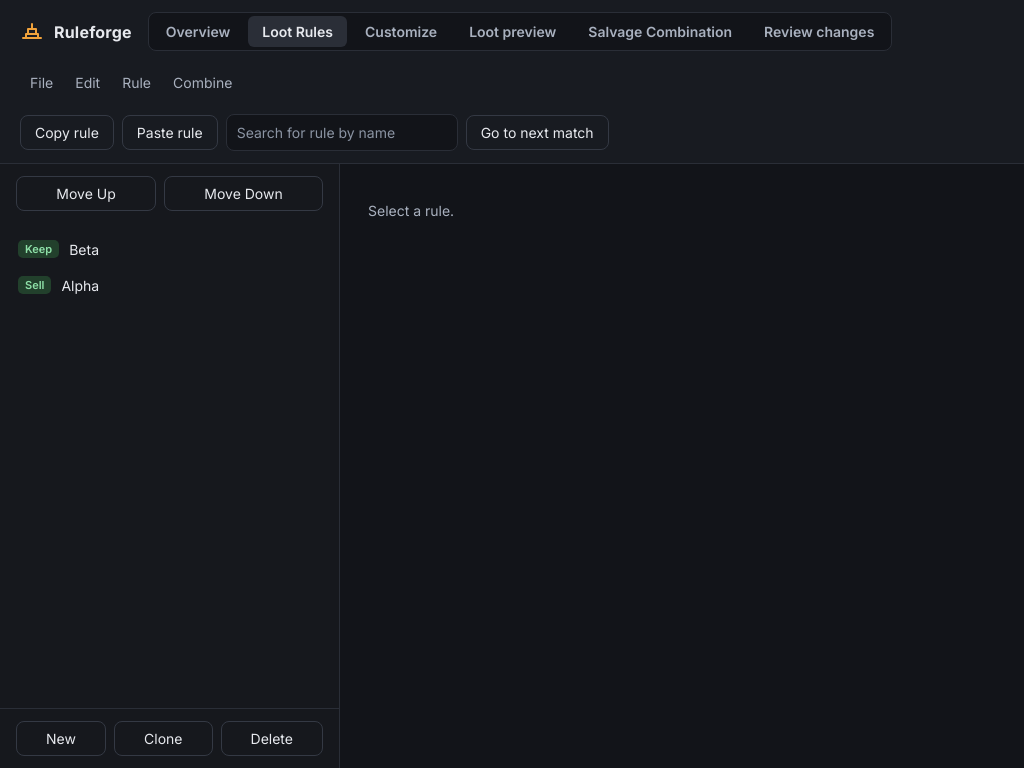
Test: App open and save › a write that fails keeps the profile and shows an error
This screenshot has width=1024, height=768.
Click the button "Keep Beta" at {"x": 39, "y": 249}, box [8, 231, 331, 267]
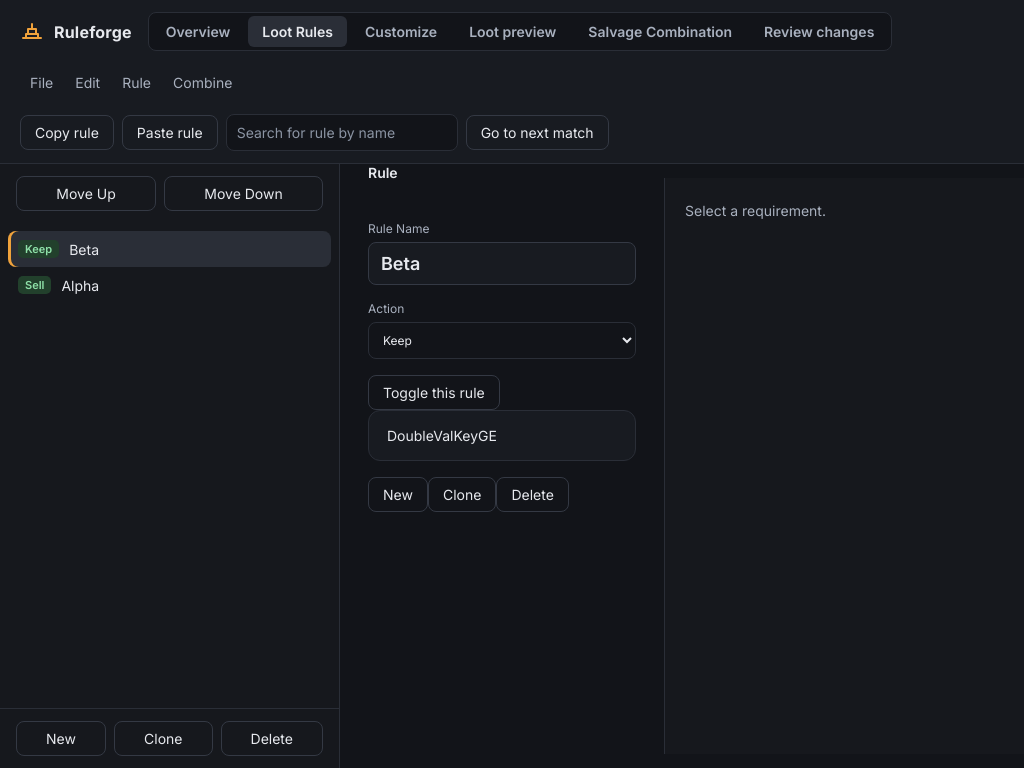
Replace the text in the field labelled "Rule Name" with "Renamed" at {"x": 502, "y": 264}, box [368, 242, 636, 285]
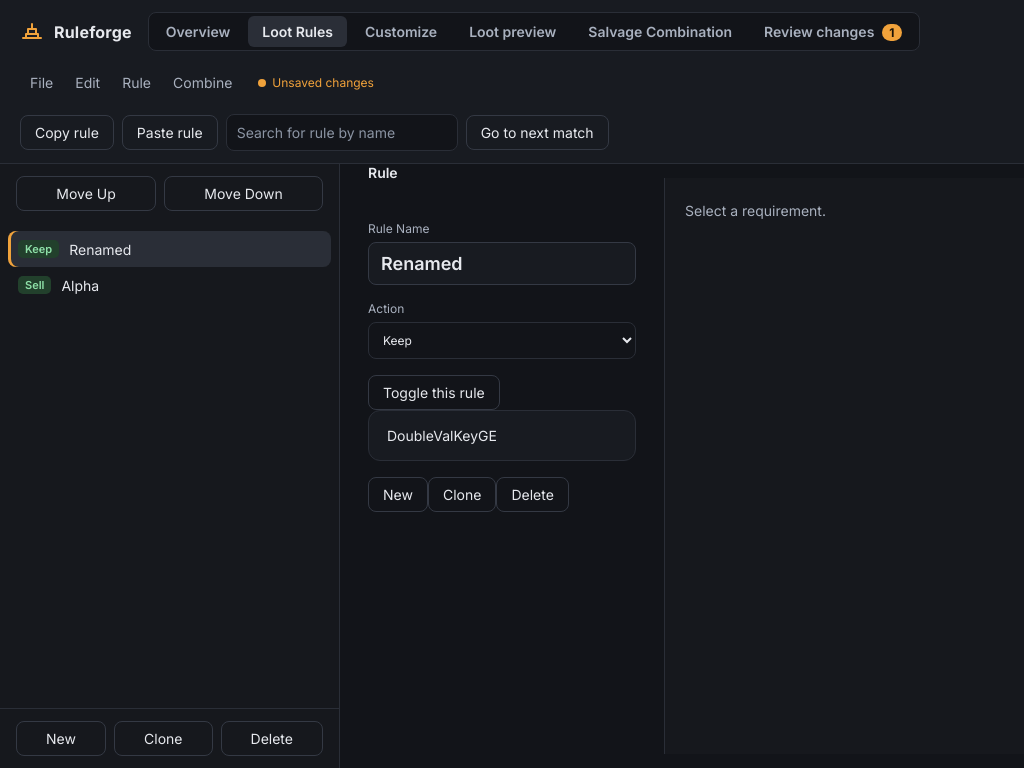
Click the button "File" at {"x": 42, "y": 82}, box [20, 67, 63, 98]
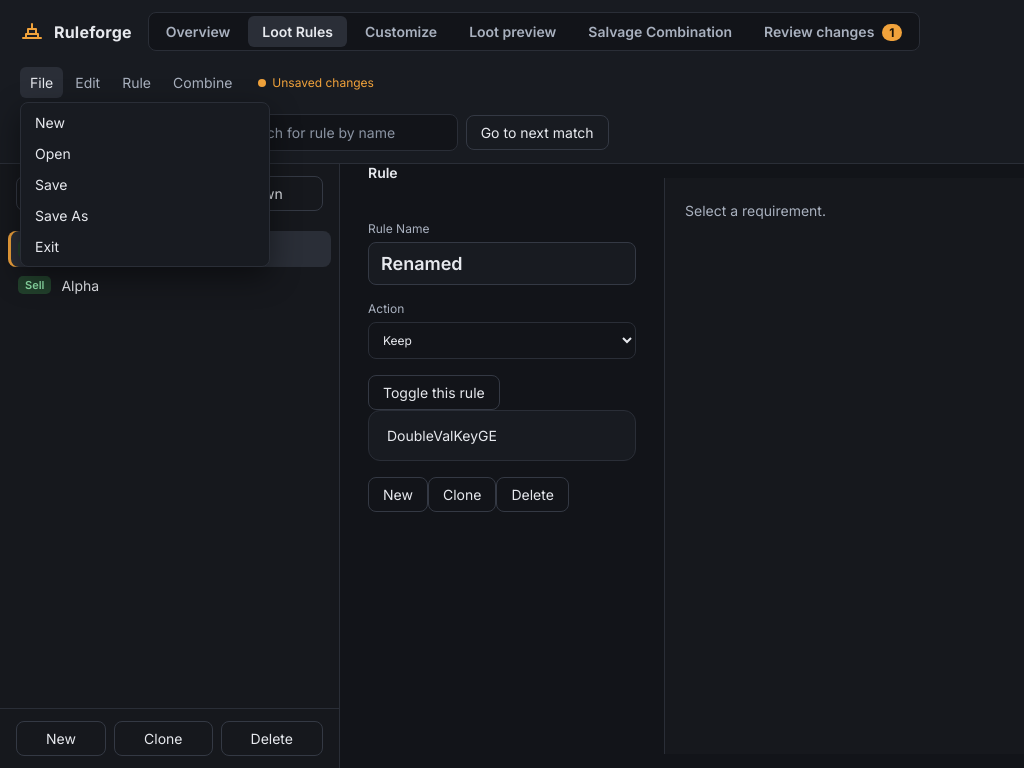
Click the button "Save As" at {"x": 145, "y": 216}, box [25, 200, 265, 231]
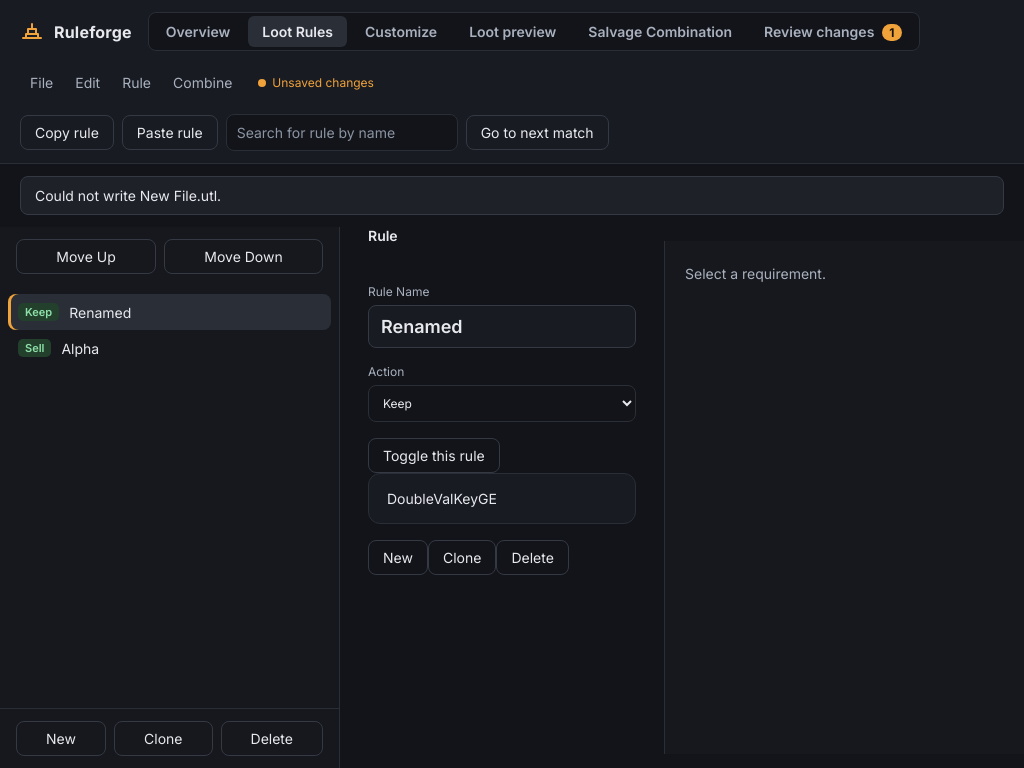
Check: the message "Could not write New File.utl." is shown, box [20, 176, 1004, 215]
Click the button "File" at {"x": 42, "y": 82}, box [20, 67, 63, 98]
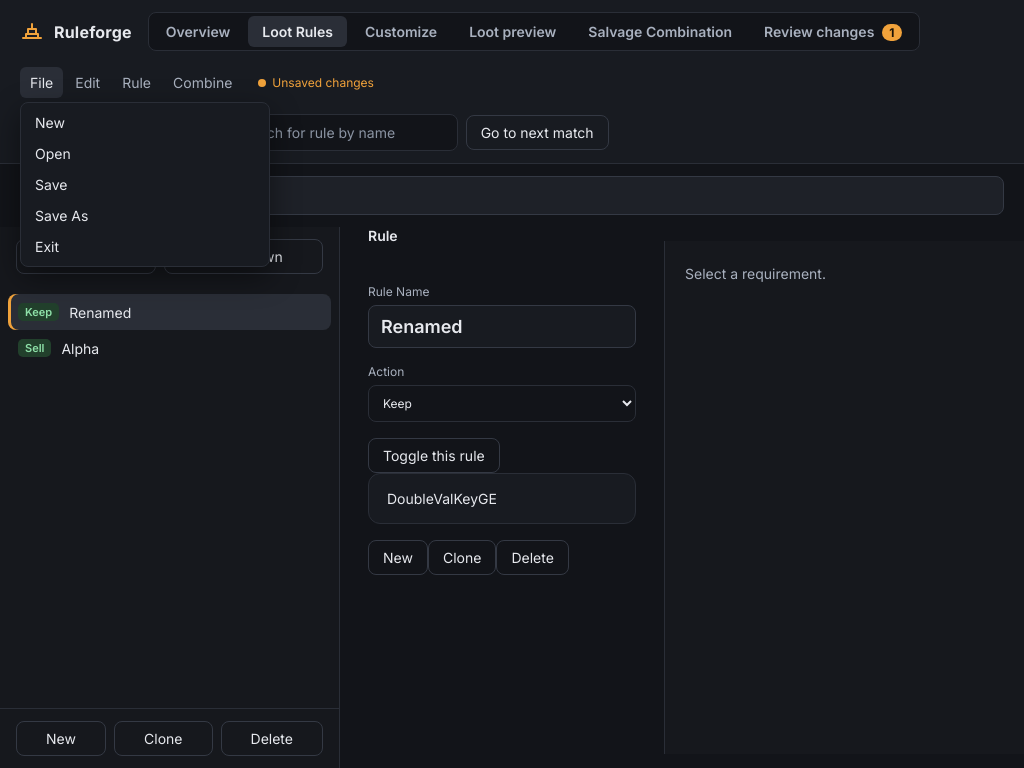
Click the button "New" below "Unsaved changes" at {"x": 145, "y": 122}, box [25, 107, 265, 138]
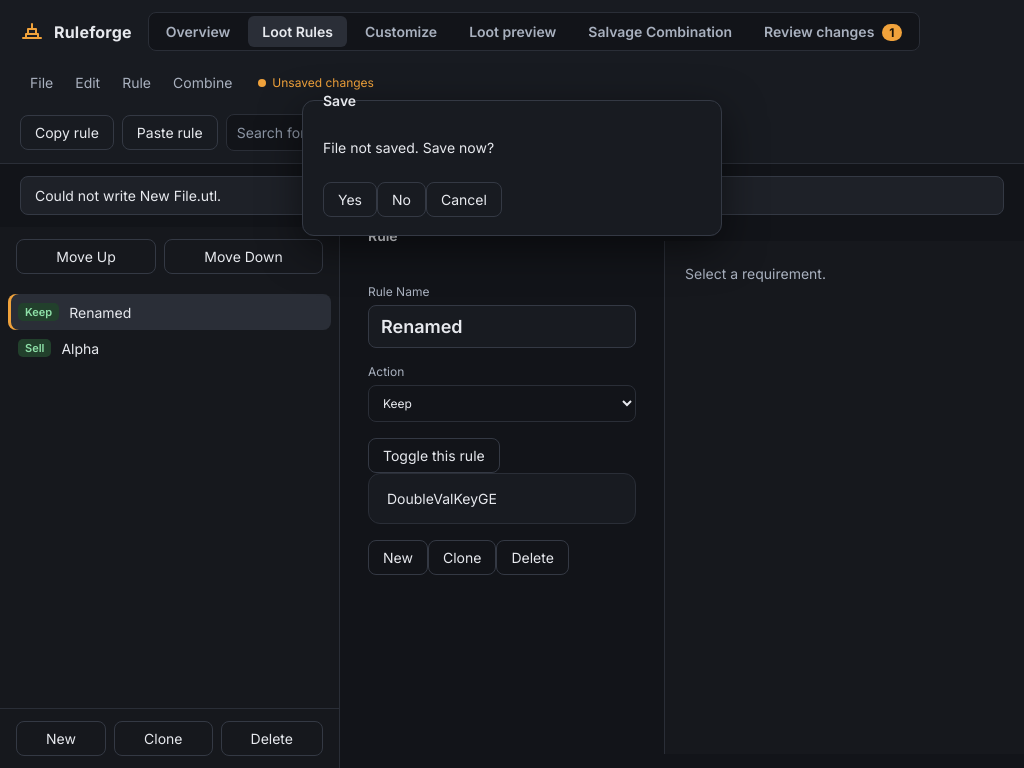
Check: the dialog is shown, box [302, 92, 722, 236]
